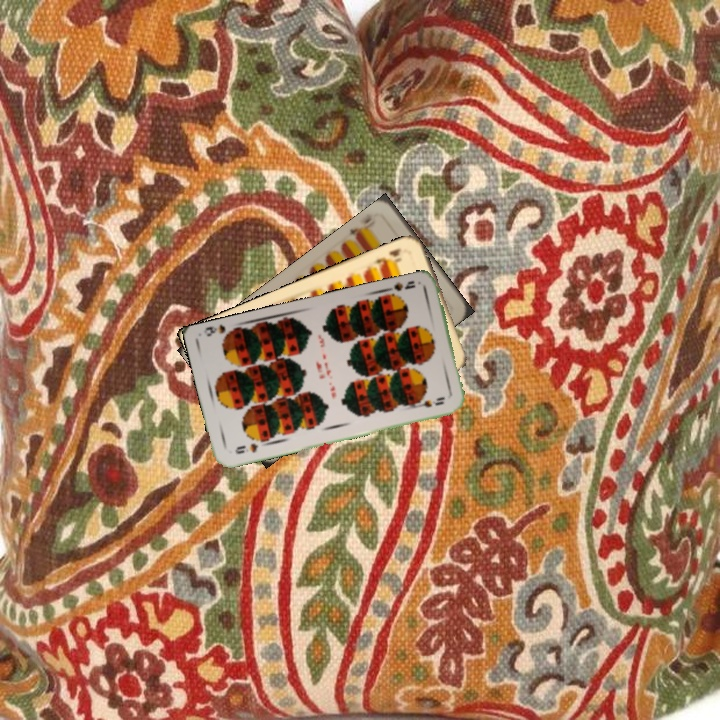E10: (345, 209, 381, 243), (369, 244, 404, 271)
S9: (381, 276, 418, 301), (231, 439, 261, 457)
